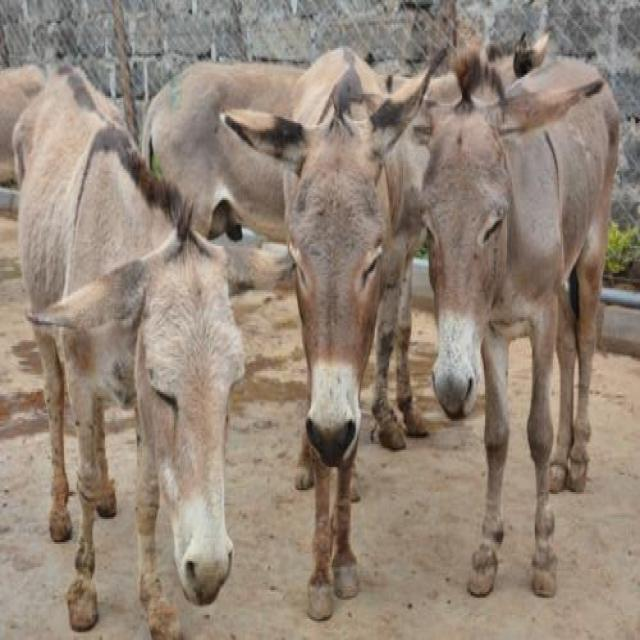Donkey: (144, 28, 554, 454), (12, 64, 246, 638), (376, 58, 621, 600), (222, 47, 444, 621), (2, 63, 47, 197)
